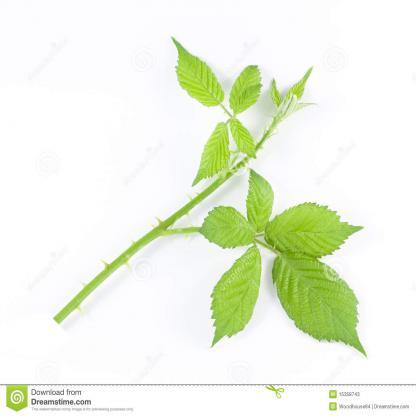Raspberry leaf: (269, 245, 375, 364), (208, 244, 267, 353), (264, 203, 369, 260), (170, 32, 224, 110), (188, 121, 233, 188), (199, 204, 259, 251), (245, 158, 275, 233), (230, 57, 264, 118), (227, 112, 259, 161)
